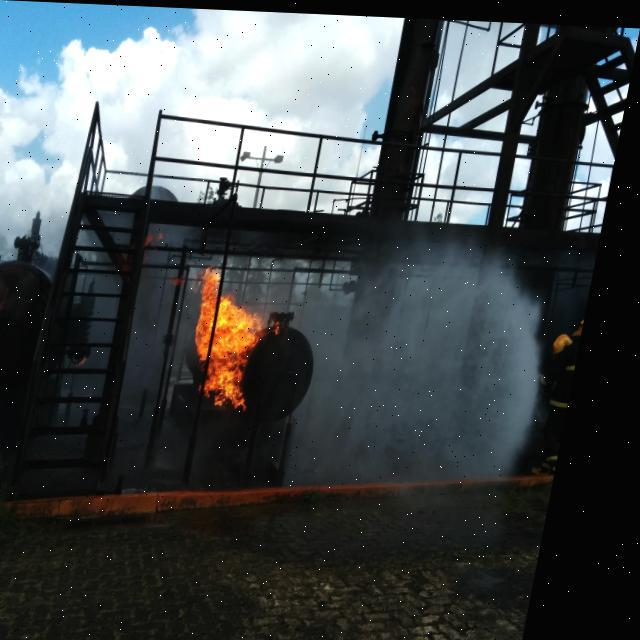Fire: (188, 259, 294, 412)
